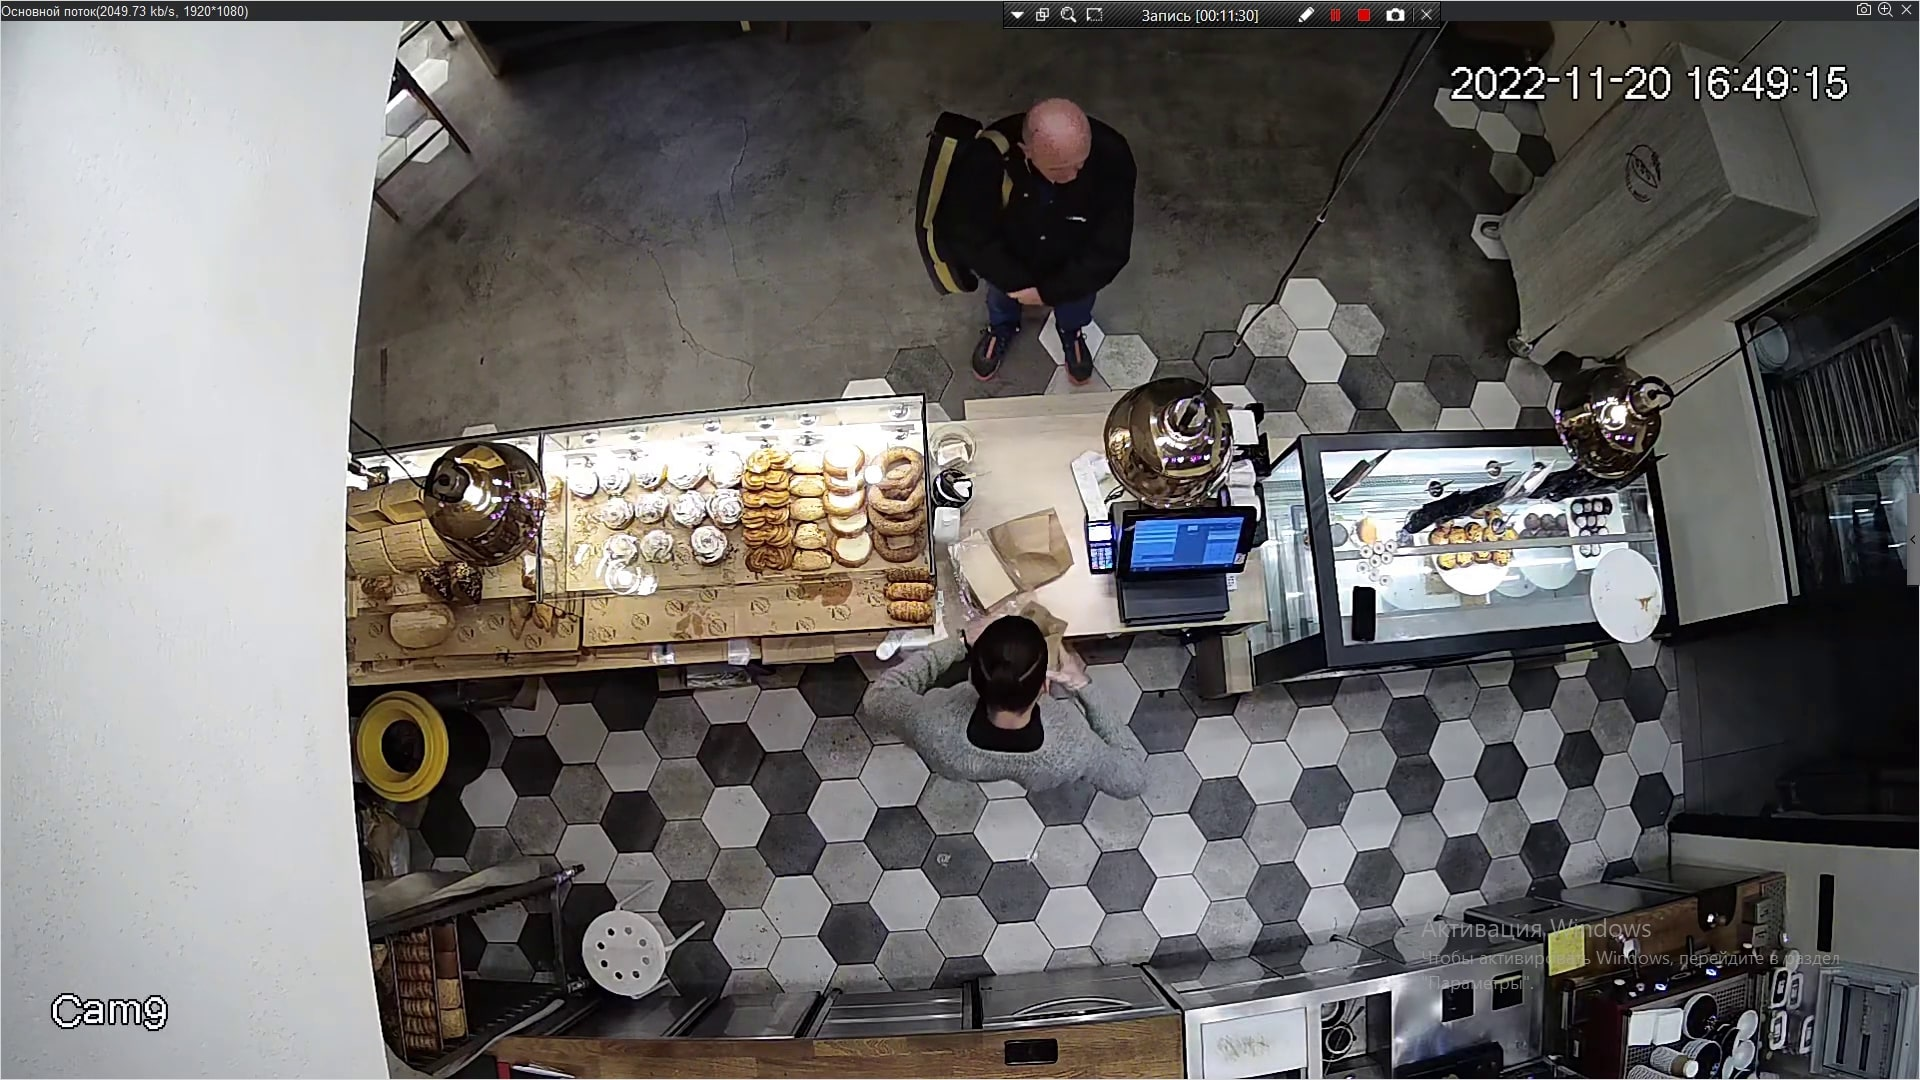pack: (993, 502, 1075, 596)
person: (916, 86, 1141, 405), (883, 616, 1168, 812)
